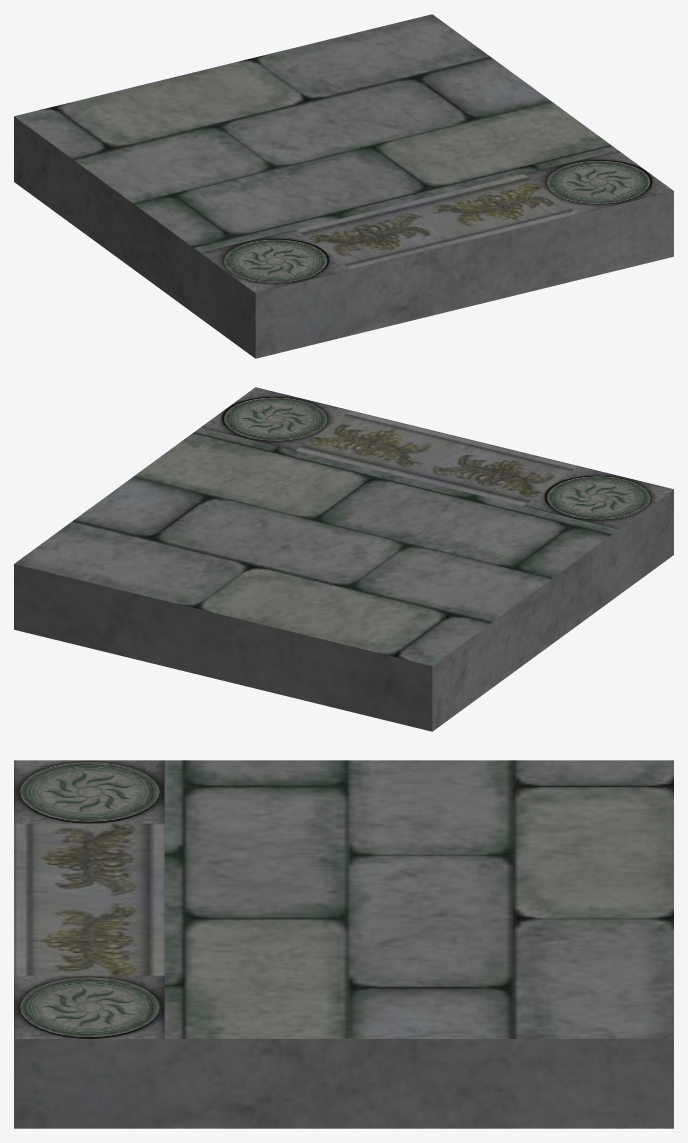
Rendered from floor_small_trim_B_02.glb.
3 renders of one model, top to bottom at view 1: azimuth 30°, elevation 25°; view 2: azimuth 150°, elevation 25°; view 3: azimuth 270°, elevation 25°, orthographic. The views are drawn at different scales.
Visible parts, largest first — view 1: floor_small_trim_B_02; view 2: floor_small_trim_B_02; view 3: floor_small_trim_B_02.
Boxes of the visible parts, x1,y1,x2,y2 form: floor_small_trim_B_02: (14, 14, 673, 358); floor_small_trim_B_02: (14, 387, 673, 731); floor_small_trim_B_02: (14, 760, 673, 1128).
Size of the model in its own units: 2 by 0.3 by 2.
1 material, 1 textured.
